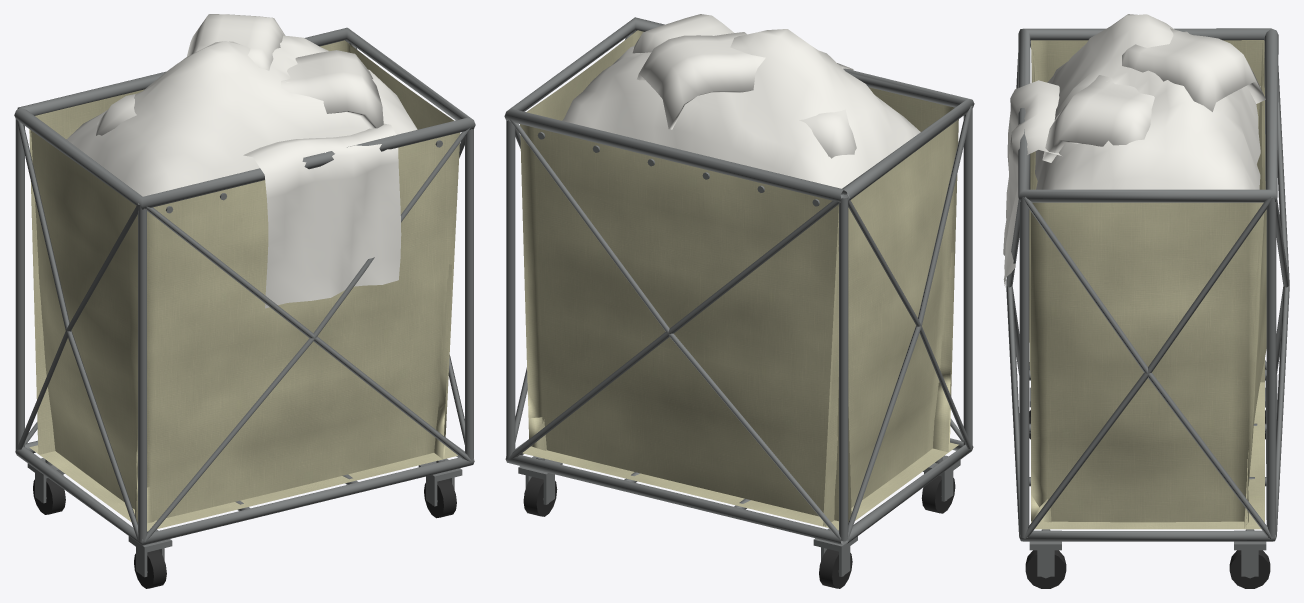
Rendered from laundry_cart.glb.
The picture shows the model from 3 angles, left to right: view 1: azimuth 30°, elevation 25°; view 2: azimuth 150°, elevation 25°; view 3: azimuth 270°, elevation 25°; orthographic projection.
Parts seen in each view (by area): view 1: laundry_cart; view 2: laundry_cart; view 3: laundry_cart.
Boxes of the visible parts, x1=… form: laundry_cart: x1=14, y1=14, x2=475, y2=588; laundry_cart: x1=504, y1=14, x2=974, y2=588; laundry_cart: x1=1003, y1=14, x2=1289, y2=588.
Bounding box in the file's own units: 0.778 × 0.9882 × 0.5336.
4 materials, 1 textured.
